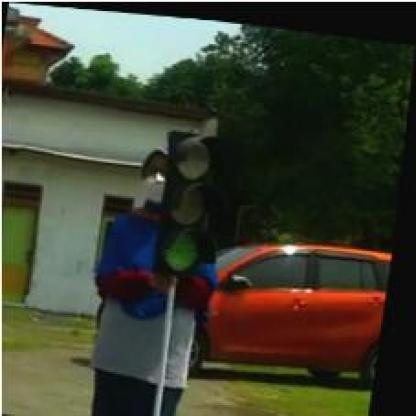green: (153, 126, 236, 278)
